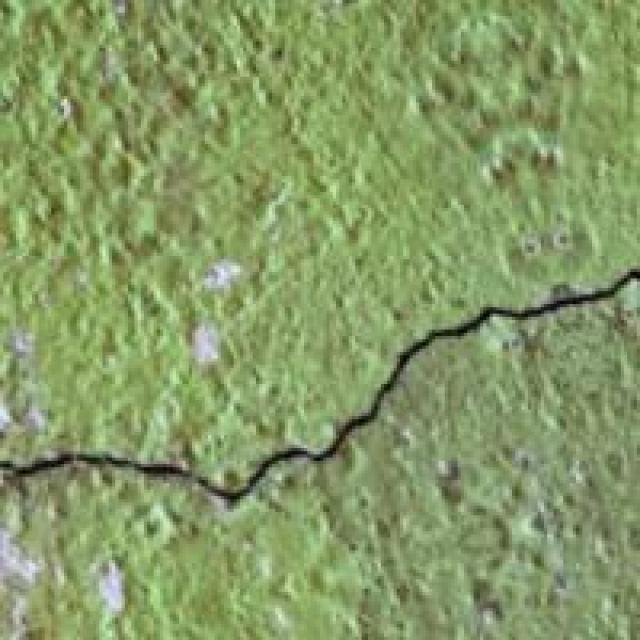Crack: (3, 246, 637, 576)
